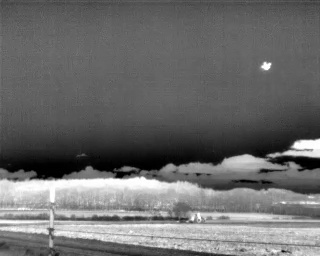DRONE: (258, 57, 275, 74)
